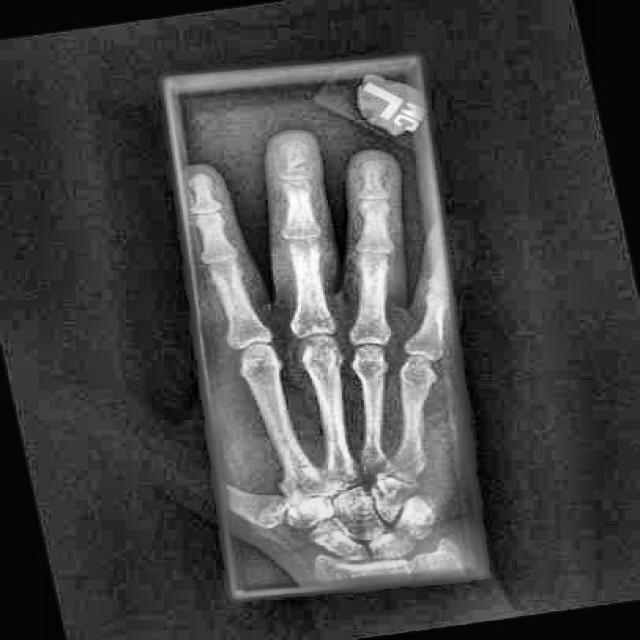fingers positive: (268, 148, 324, 202)
